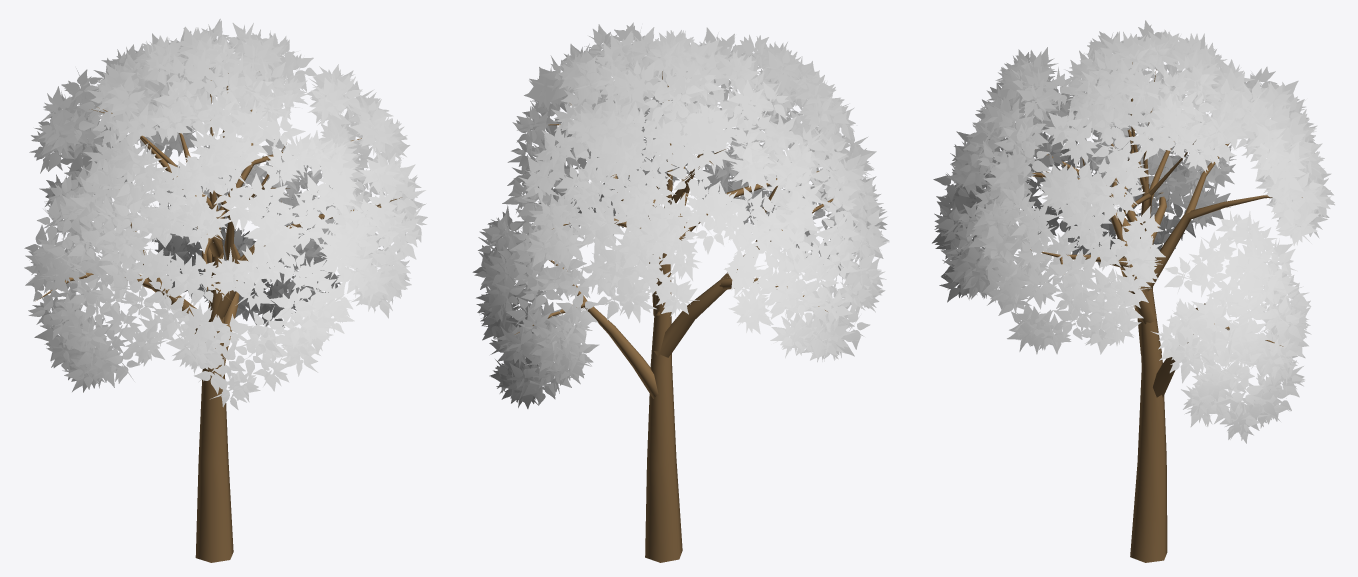
File: mod_arbol2.fbx
3 views of the same model, side by side, from view 1: azimuth 30°, elevation 25°; view 2: azimuth 150°, elevation 25°; view 3: azimuth 270°, elevation 25° (orthographic).
Parts seen in each view (by area): view 1: Hoja.001, tree.001; view 2: Hoja.001, tree.001; view 3: Hoja.001, tree.001.
Part boxes in pixels (x1,y1,x2,y2): Hoja.001: (24, 18, 427, 409); tree.001: (35, 68, 401, 562); Hoja.001: (472, 22, 889, 408); tree.001: (514, 71, 833, 562); Hoja.001: (932, 20, 1334, 443); tree.001: (1030, 62, 1302, 562).
Size of the model in its own units: 4.58 by 6.23 by 4.53.
